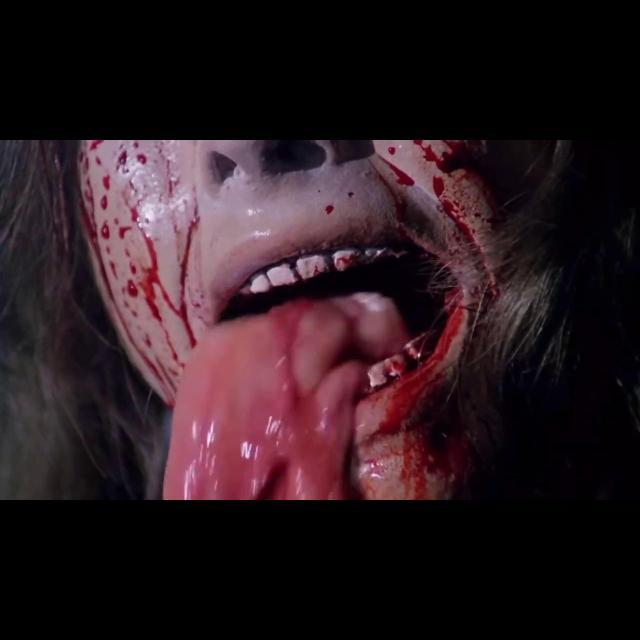blood: (352, 140, 499, 499), (78, 140, 214, 405), (295, 248, 378, 279)
